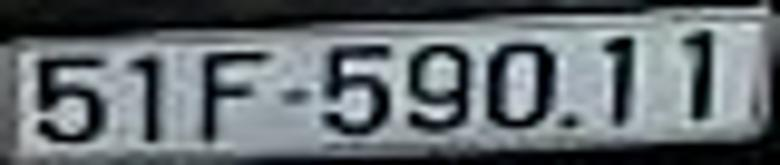-: (283, 89, 308, 102)
.: (563, 116, 576, 129)
0: (489, 41, 553, 127)
1: (684, 31, 713, 123), (133, 57, 163, 144), (606, 37, 633, 129)
5: (36, 56, 105, 142), (326, 45, 390, 135)
9: (409, 44, 469, 133)
F: (205, 50, 264, 141)
